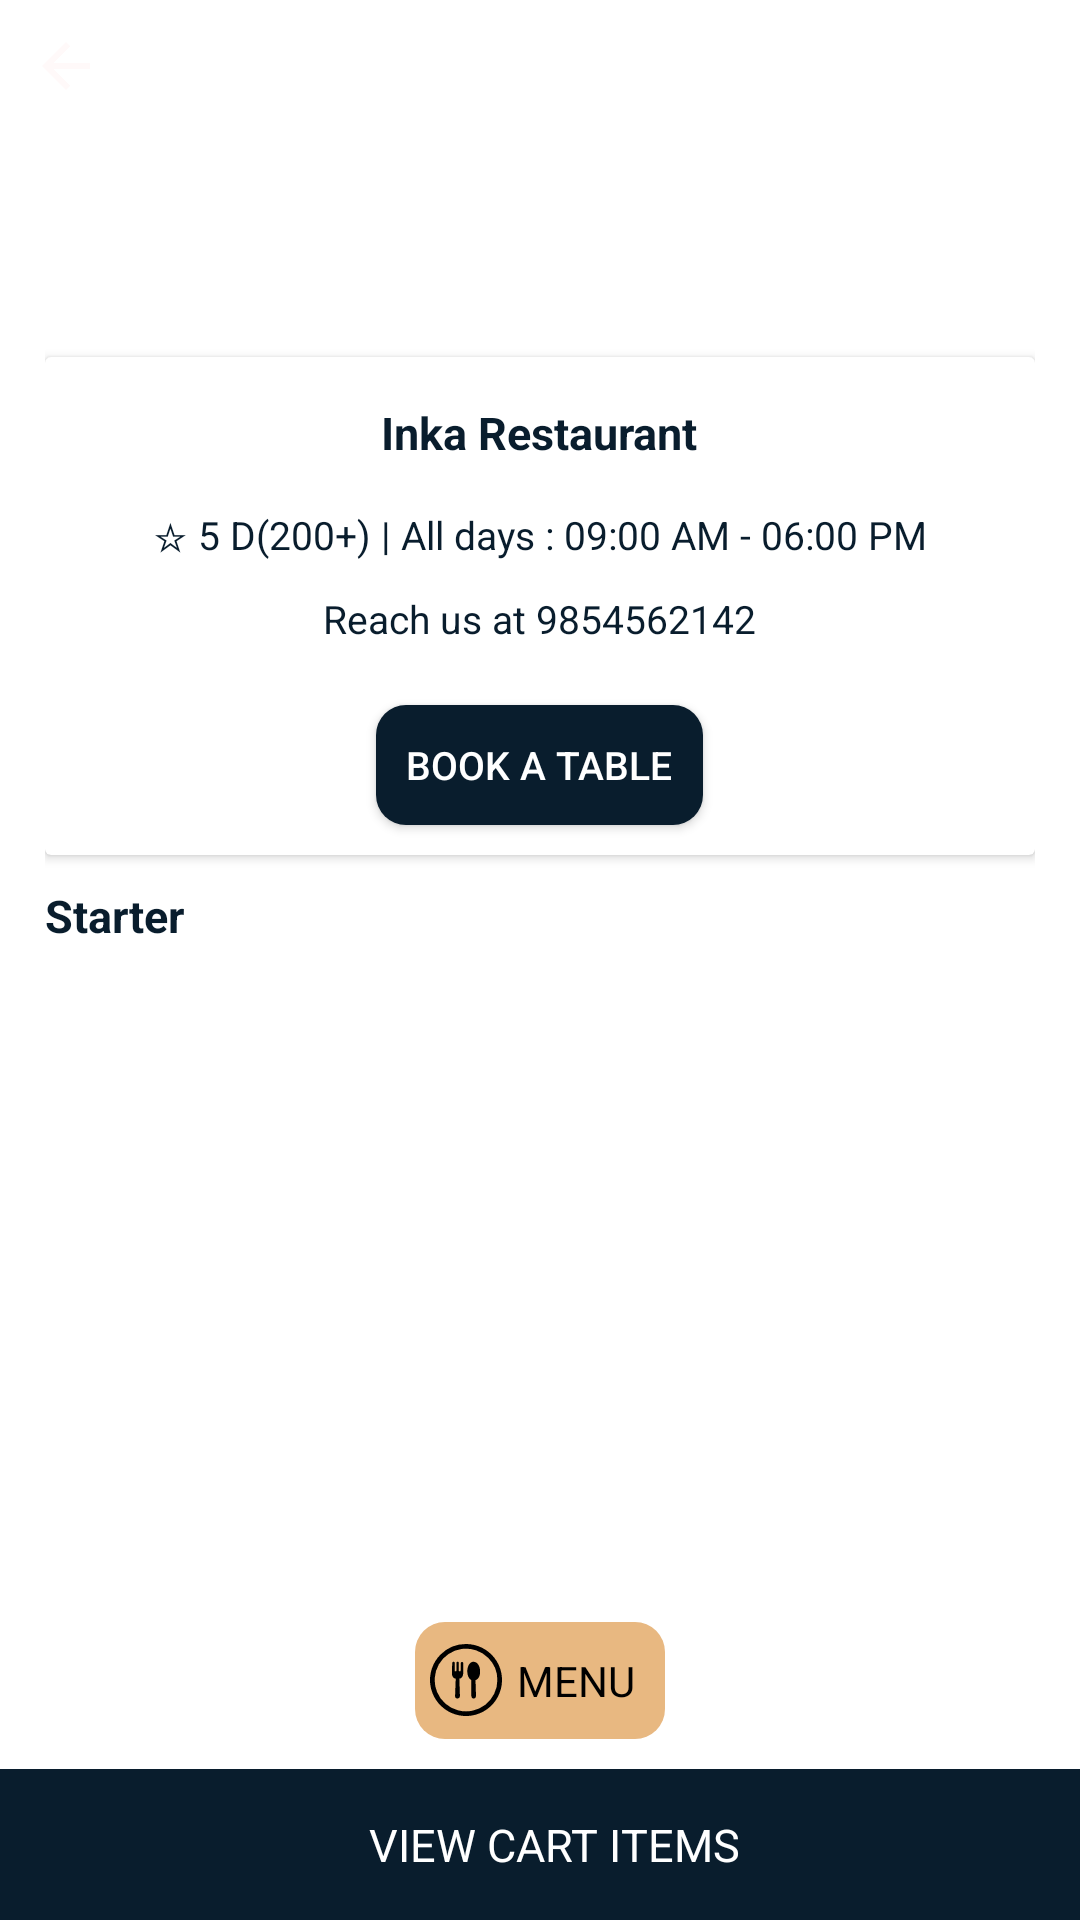

Point at icon controls on the screen. Image size 1080px x 1920px, points as (x=x, y=y).
meal food: (x=466, y=1680)
